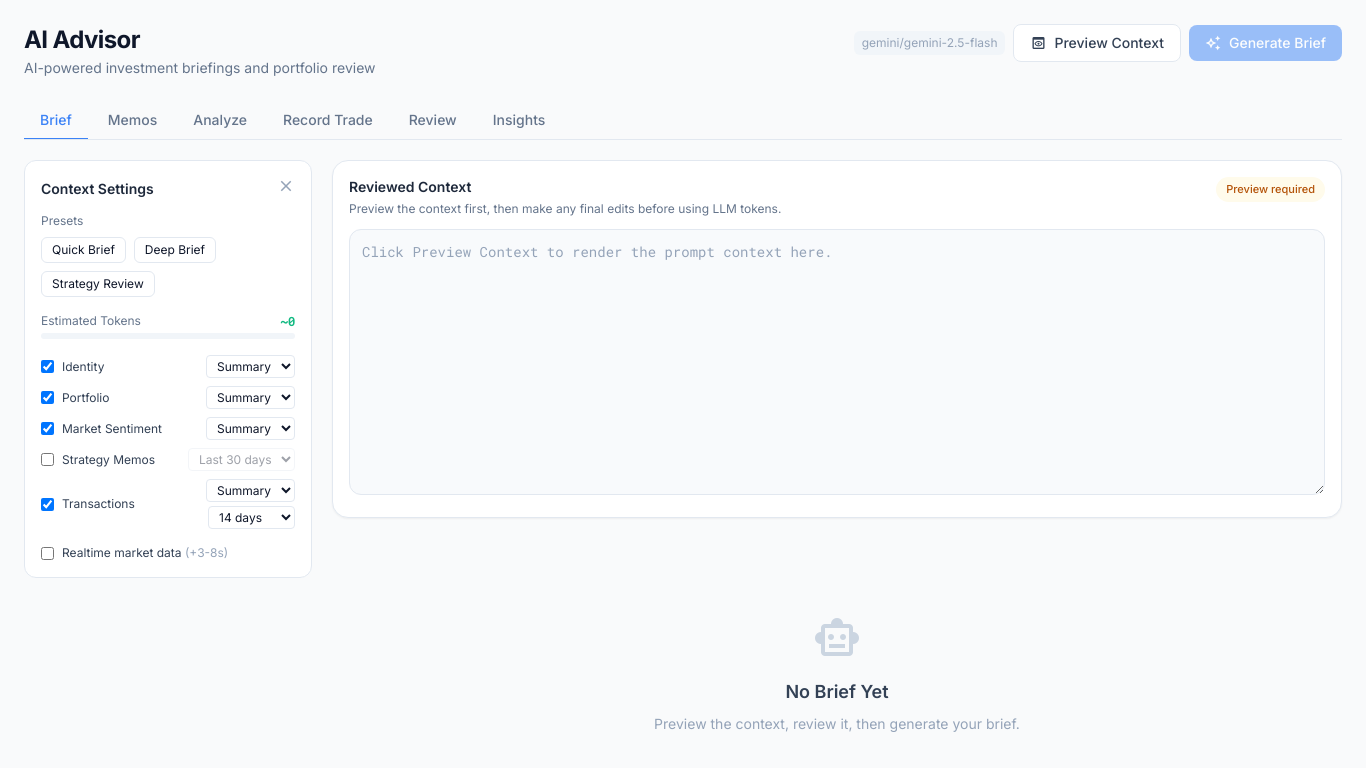
Test: AI Advisor debug logs › shows brief actions only on the brief tab
Expected: the button "Preview Context" is shown, [1014, 24, 1181, 62]
Expected: the button "Generate Brief" is shown, [1189, 25, 1342, 61]
What coordinates should you click on to do the following:
click the button "Memos"
I would click on:
 (132, 121)
Its box is [92, 102, 173, 140].
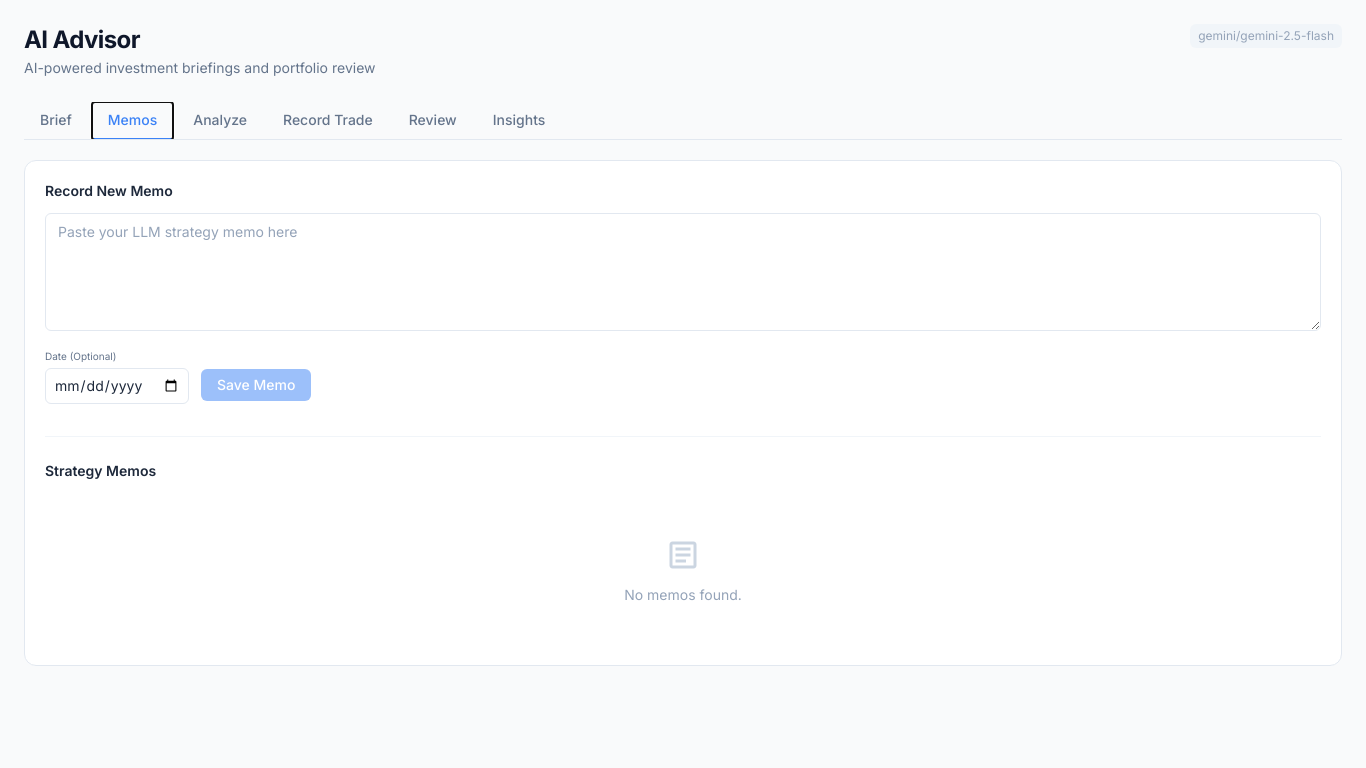
Expected: the button "Preview Context" is gone
Expected: the button "Generate Brief" is gone
